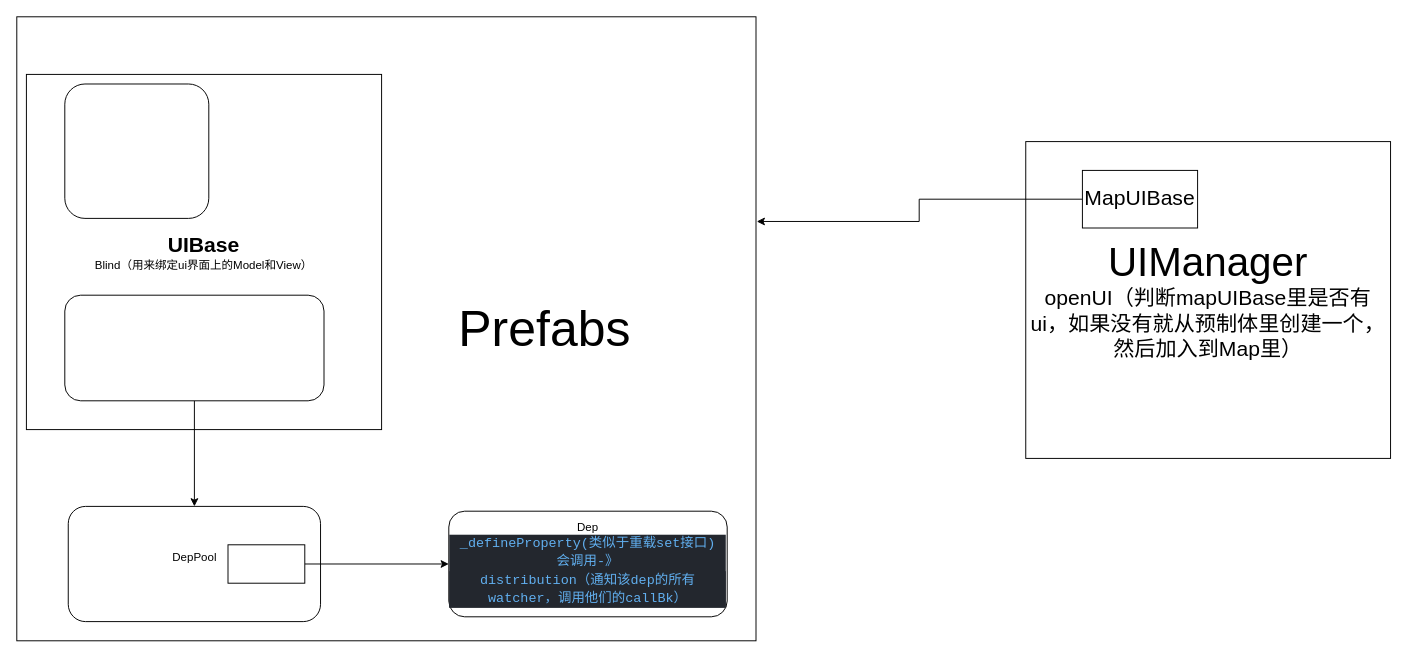
Some shapes in this 1407 by 658 pixel diagram are drawn without their labels. Each missing label, with the box of its shape:
arrDep: (227, 544, 305, 583)
UIContainer Load(加载当前节点下所有的节点) getNode（获取节点接口): (64, 83, 209, 218)
Watcher constructor--addWatcher(将自身添加进Dep): (64, 294, 324, 401)
